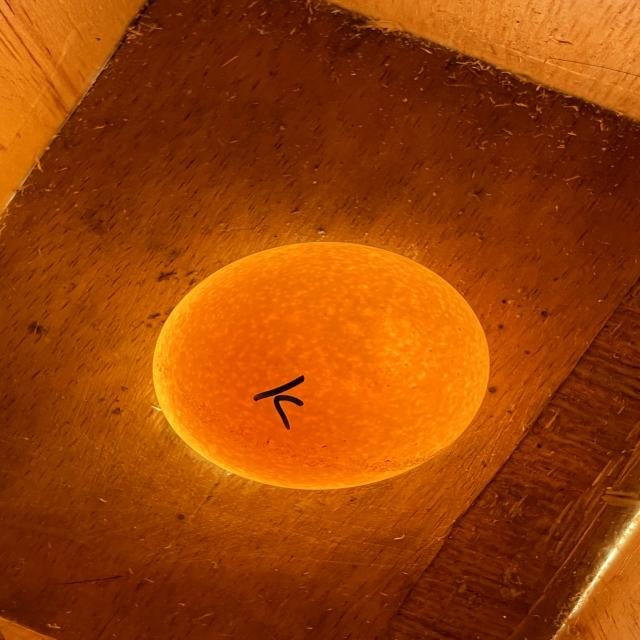infertile: (153, 242, 488, 489)
